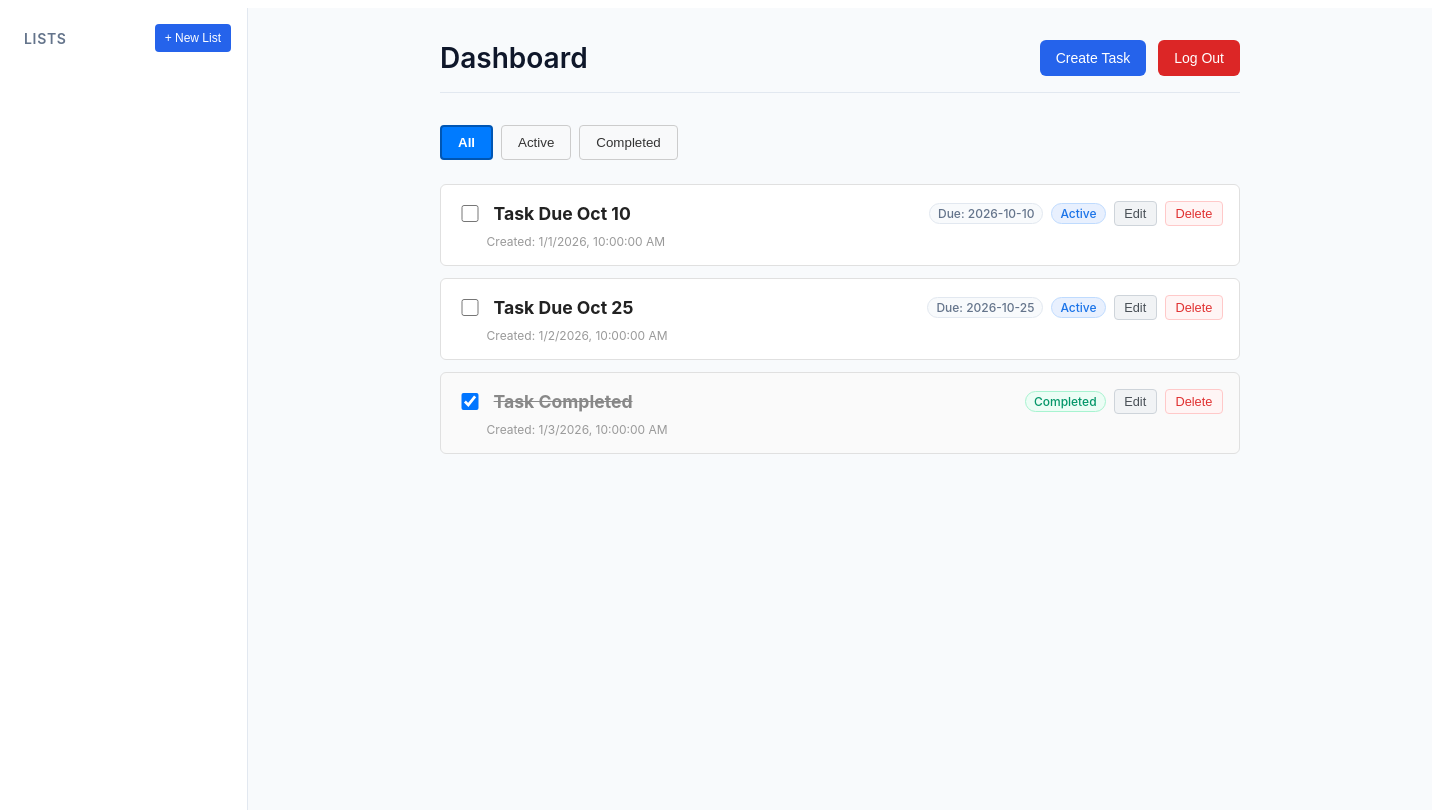
it: Dashboard Deadline-Aware Ordering Preservation (T4 / AC-1 & AC-2) › maintains deadline-aware ordering when a new task with deadline is created
Expected: the heading "Task Due Oct 10" is shown, [494,203,631,224]
Click the button "Create Task" at coordinates (1093, 58), box [1040,40,1146,76]
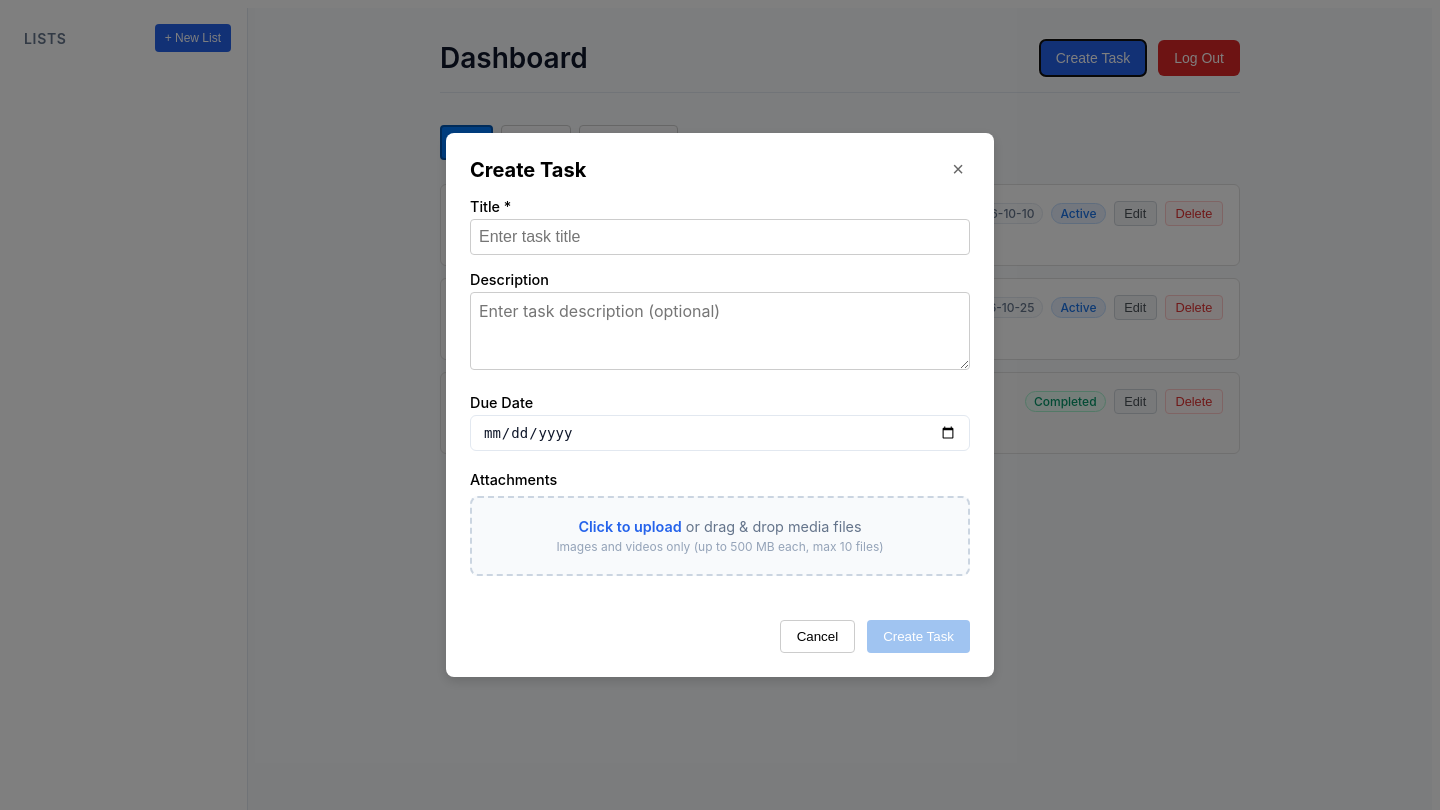
Type "Task Due Oct 15" into the field labelled "Title *" at coordinates (720, 237), box [470,219,970,255]
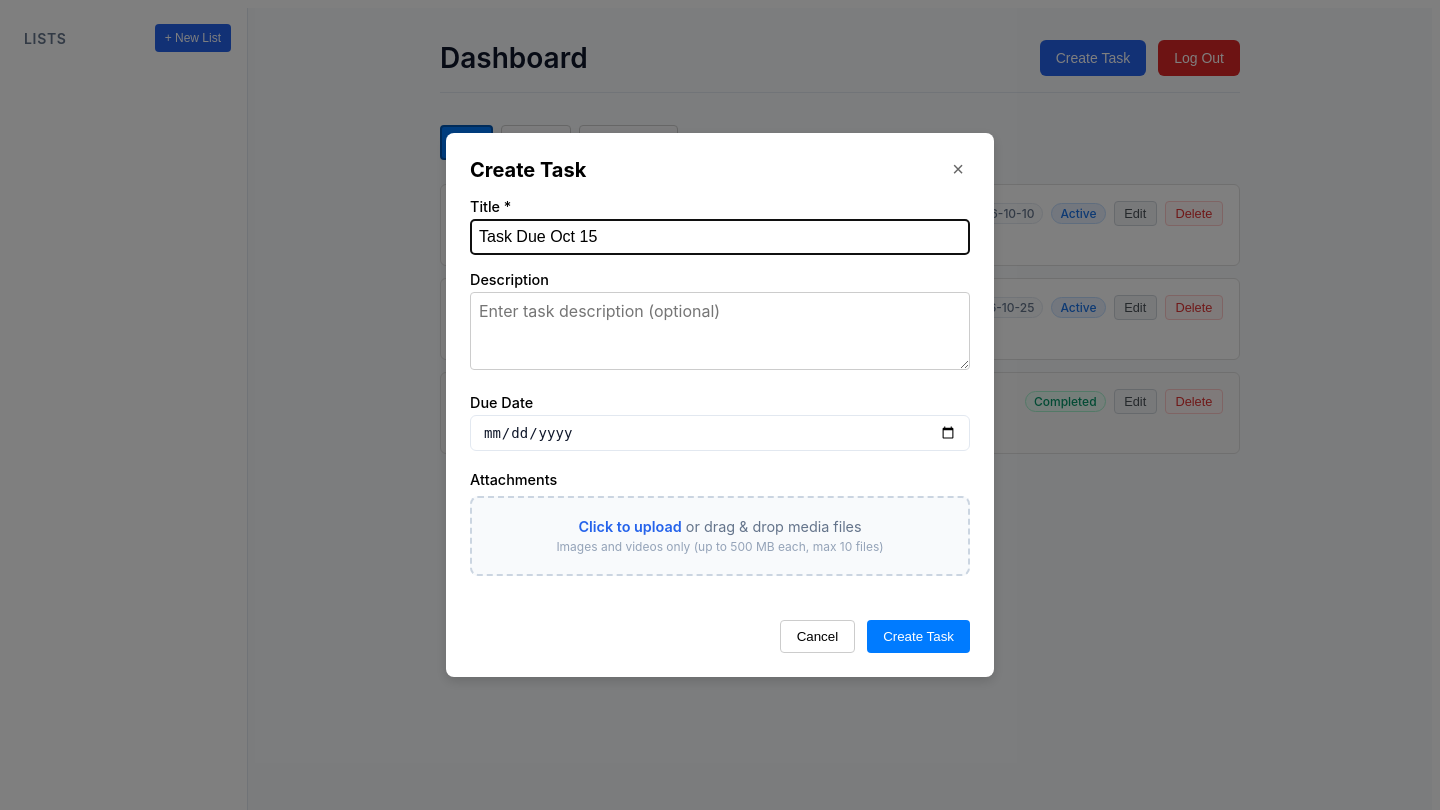
Type "2026-10-15" into the date field labelled "Due Date" at coordinates (720, 433), box [470,415,970,451]
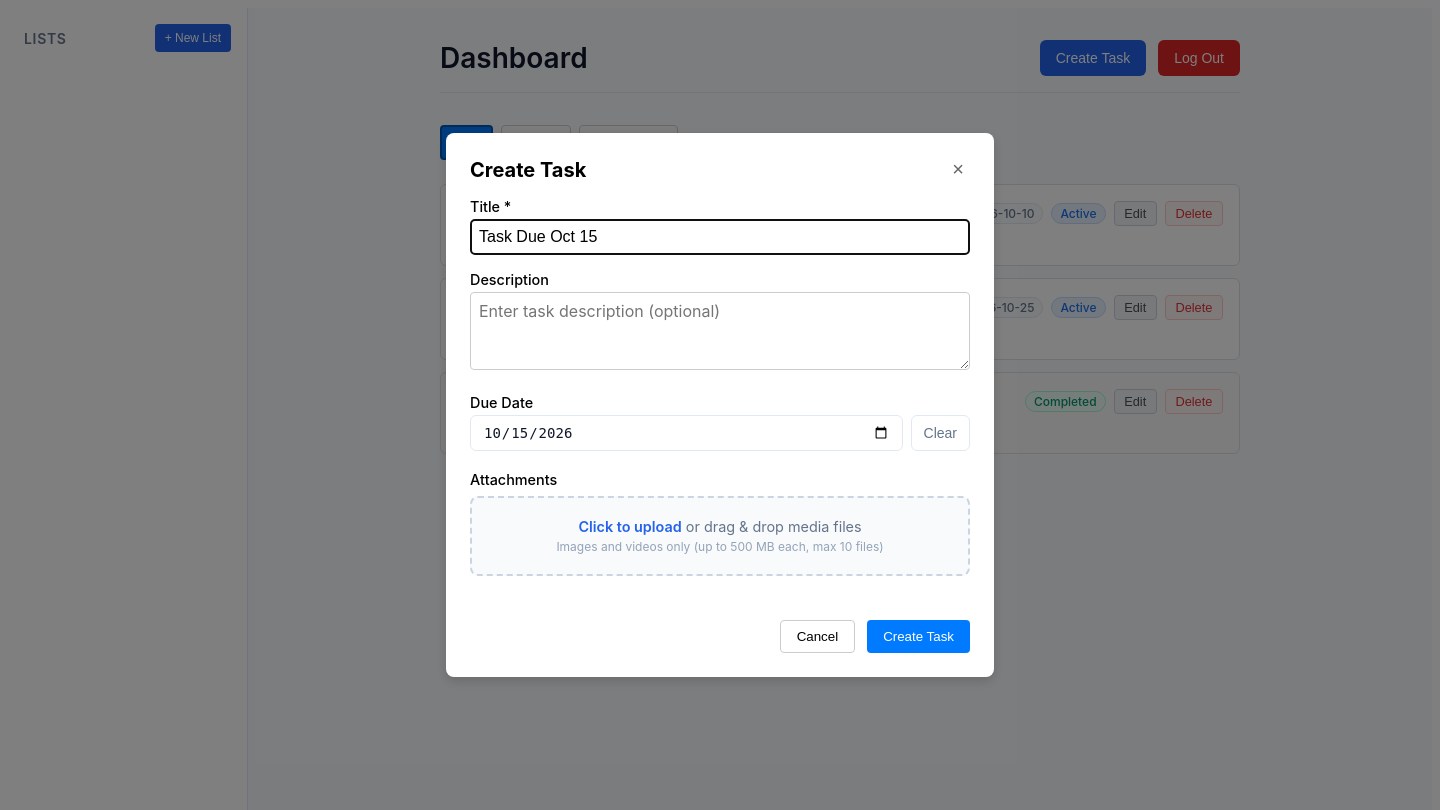
Click the button "Create Task" at coordinates (919, 636), box [867,620,970,653]
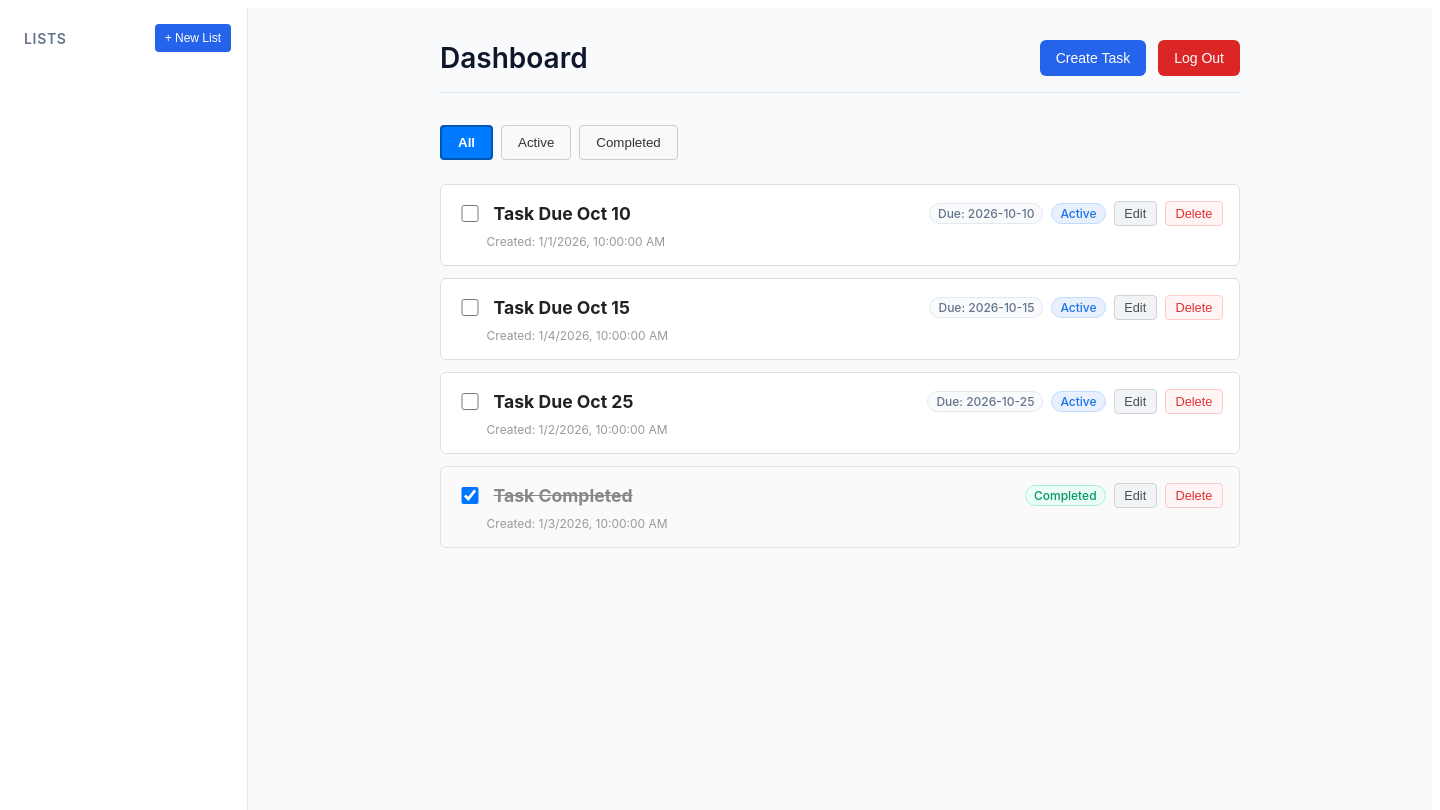
Expected: the dialog is gone
Expected: the heading "Task Due Oct 15" is shown, [494,297,630,318]
Expected: the headings read "Task Due Oct 10", "Task Due Oct 15", "Task Due Oct 25", "Task Completed", in this order, [494,203,631,224]; [494,297,630,318]; [494,391,633,412]; [494,485,632,506]
